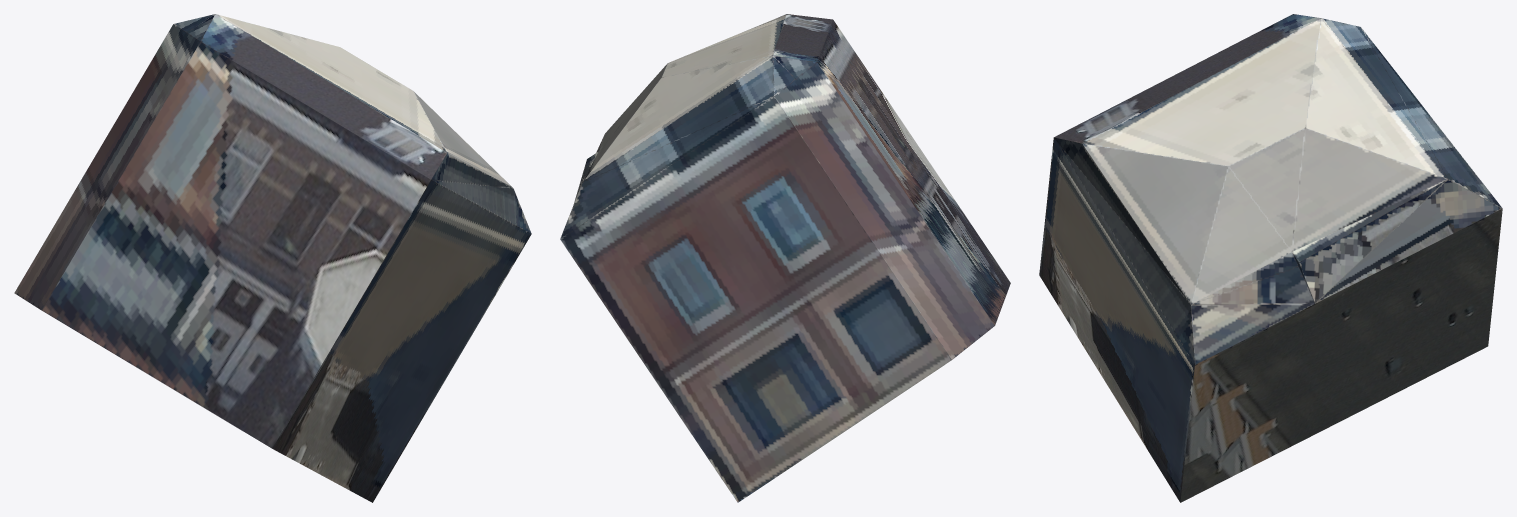
The picture shows the model from 3 angles, left to right: view 1: azimuth 30°, elevation 25°; view 2: azimuth 150°, elevation 25°; view 3: azimuth 270°, elevation 25°; orthographic projection. The views are drawn at different scales.
Visible parts, largest first — view 1: BAG_0599100000650084 (×4); view 2: BAG_0599100000650084 (×5); view 3: BAG_0599100000650084 (×5).
Boxes of the visible parts, <box> form: BAG_0599100000650084 (×4): <box>14,14,531,502</box>; BAG_0599100000650084 (×5): <box>560,14,1010,502</box>; BAG_0599100000650084 (×5): <box>1039,14,1502,502</box>.
Size of the model in its own units: 14.55 by 14.2 by 13.43.
Materials: 1 (1 with a texture image).
